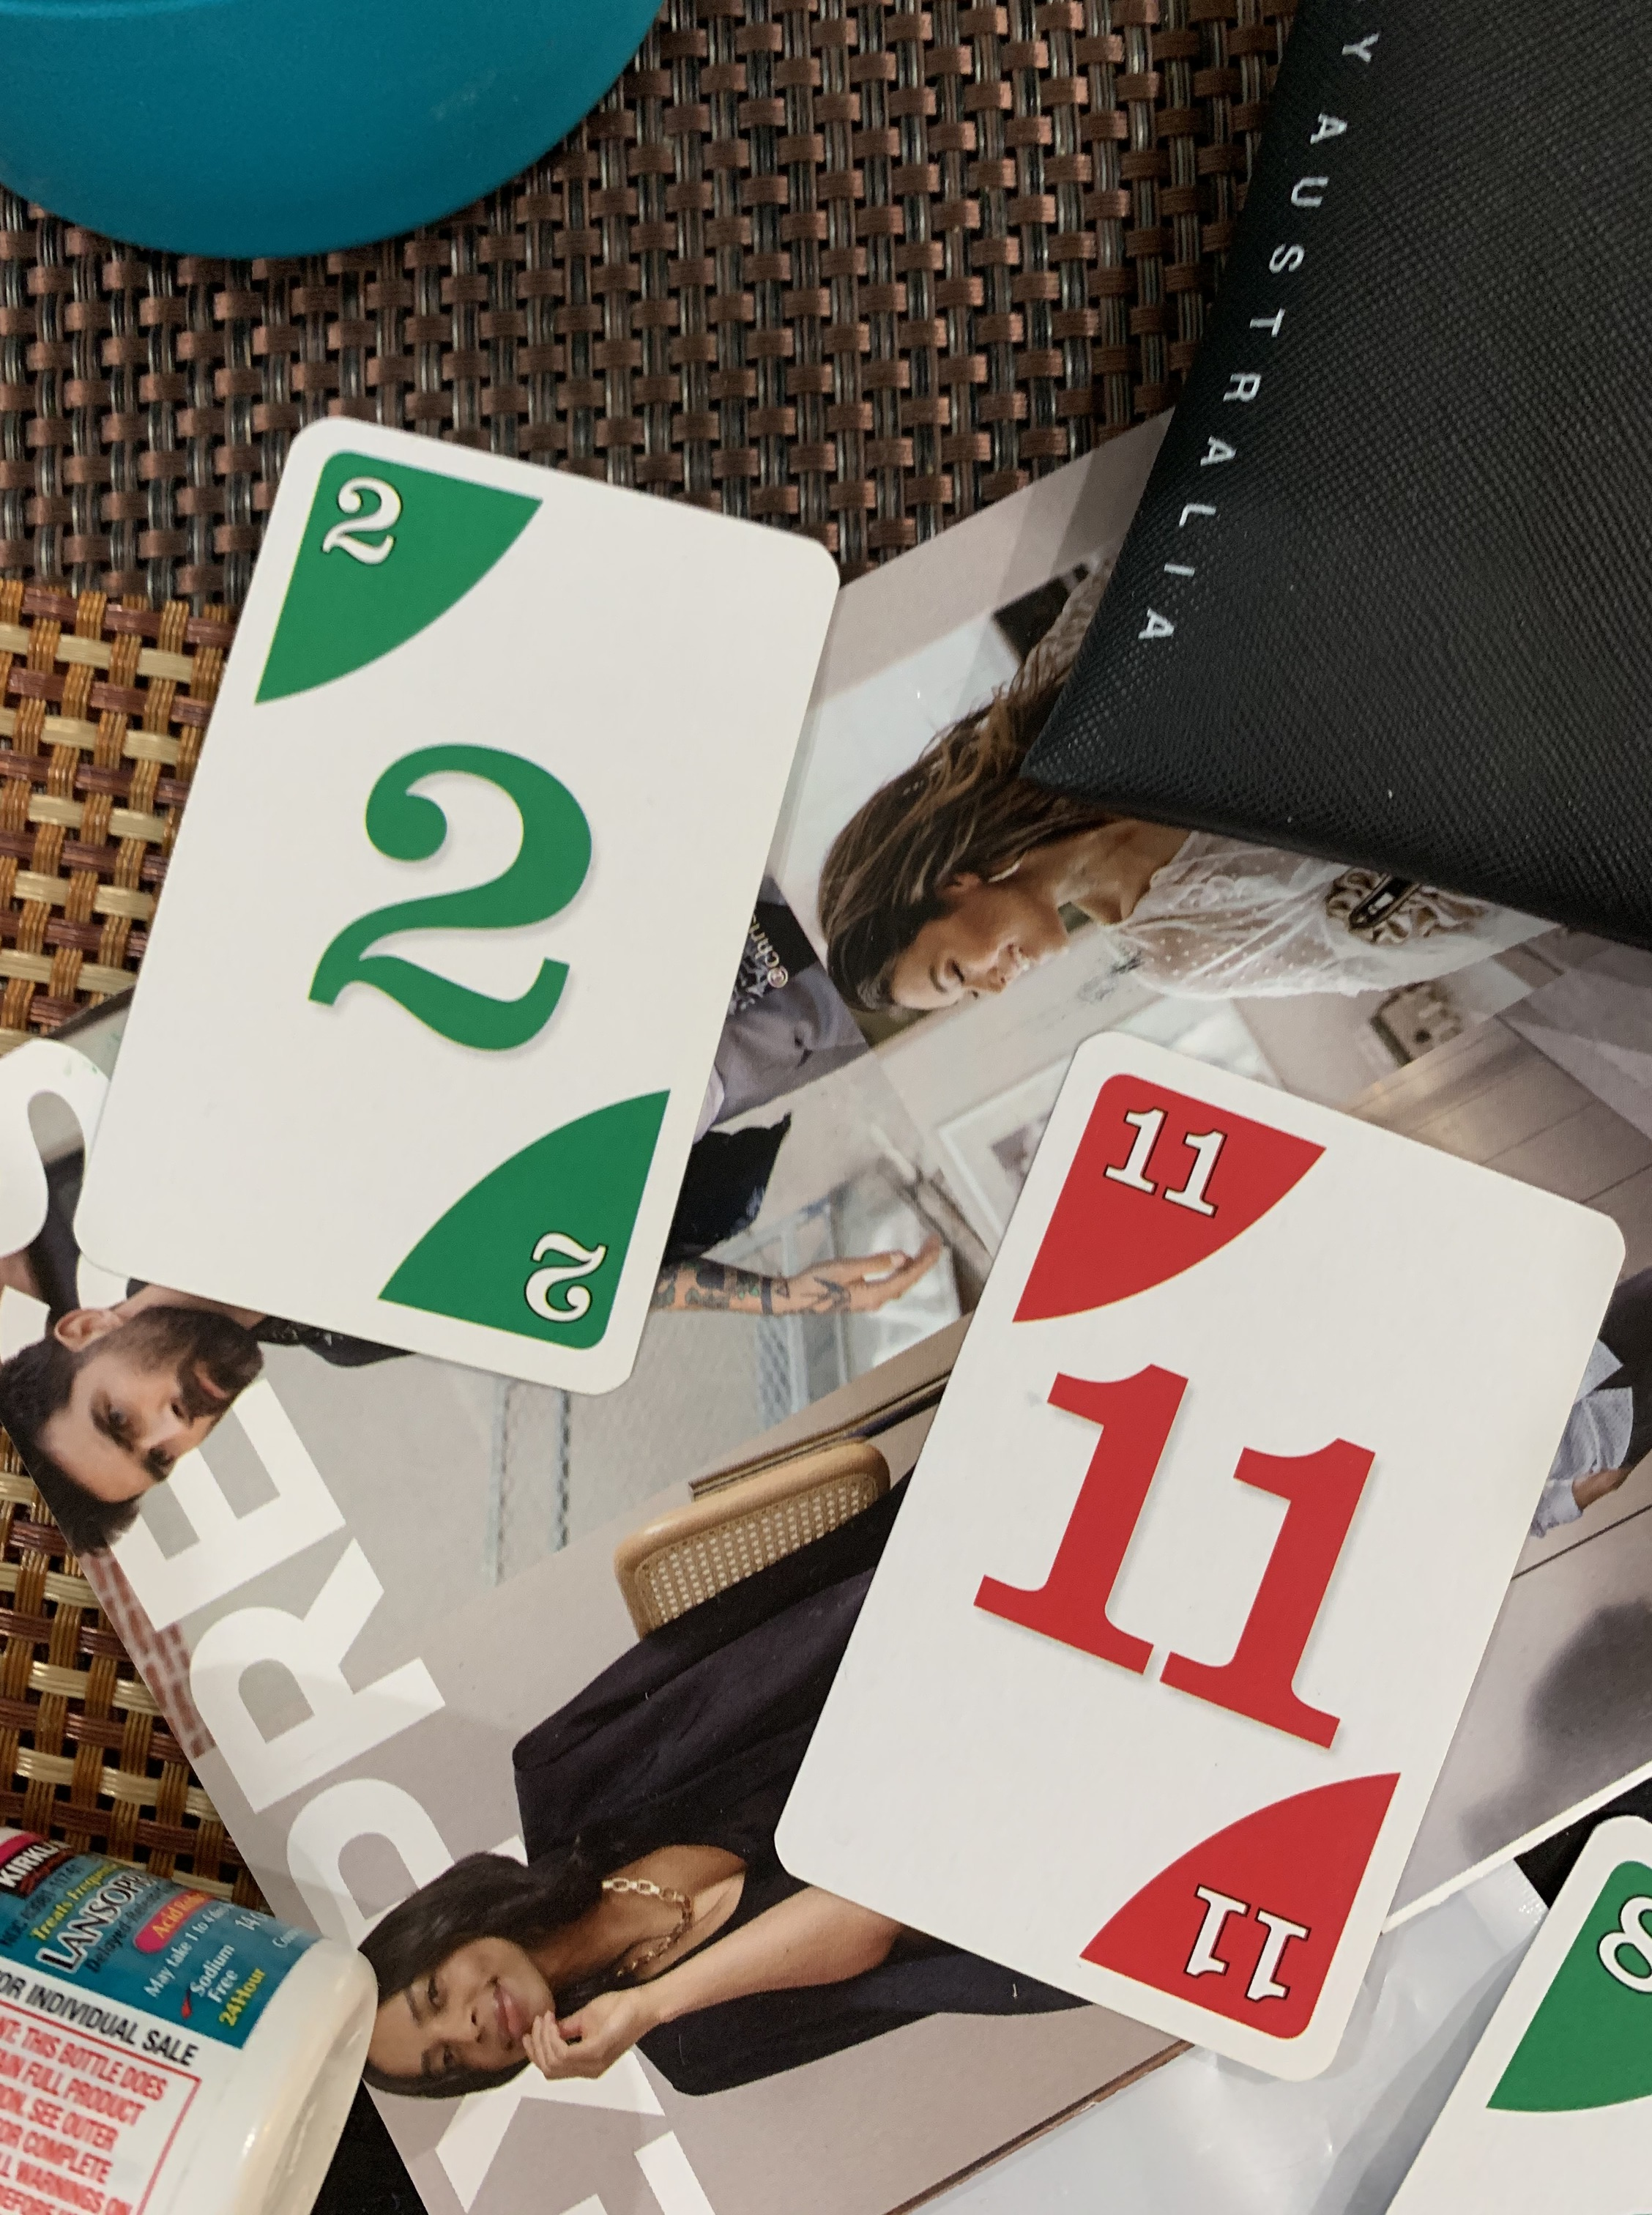eleven: (758, 1014, 1635, 2095)
two: (59, 389, 859, 1418)
